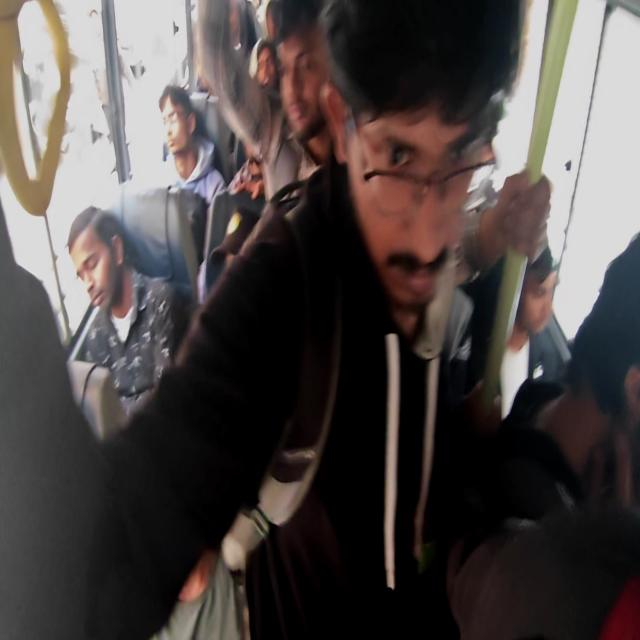person: (69, 312, 242, 629), (511, 224, 638, 511), (347, 83, 486, 330), (273, 3, 335, 159), (207, 188, 264, 302), (72, 225, 118, 315), (158, 84, 198, 156), (254, 36, 280, 90), (471, 137, 499, 175), (265, 0, 283, 42), (196, 69, 213, 98), (248, 156, 263, 178), (250, 0, 261, 13)
